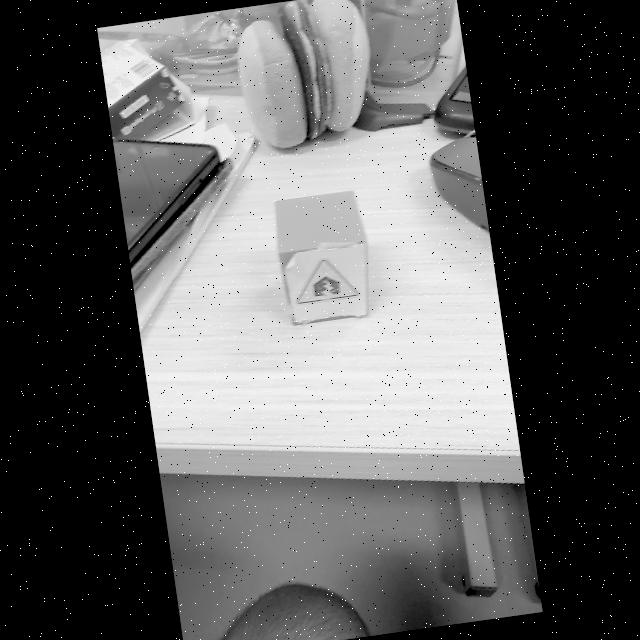Earthquake: (298, 260, 358, 304)
